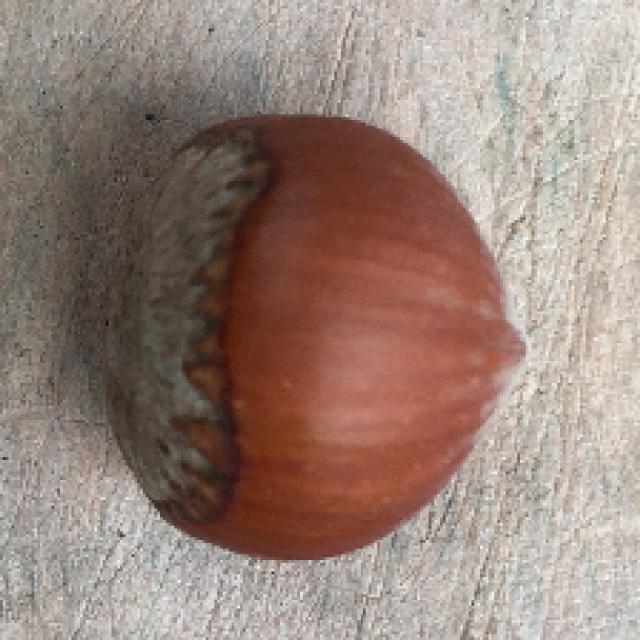qualityHazelnut: (108, 111, 529, 561)
